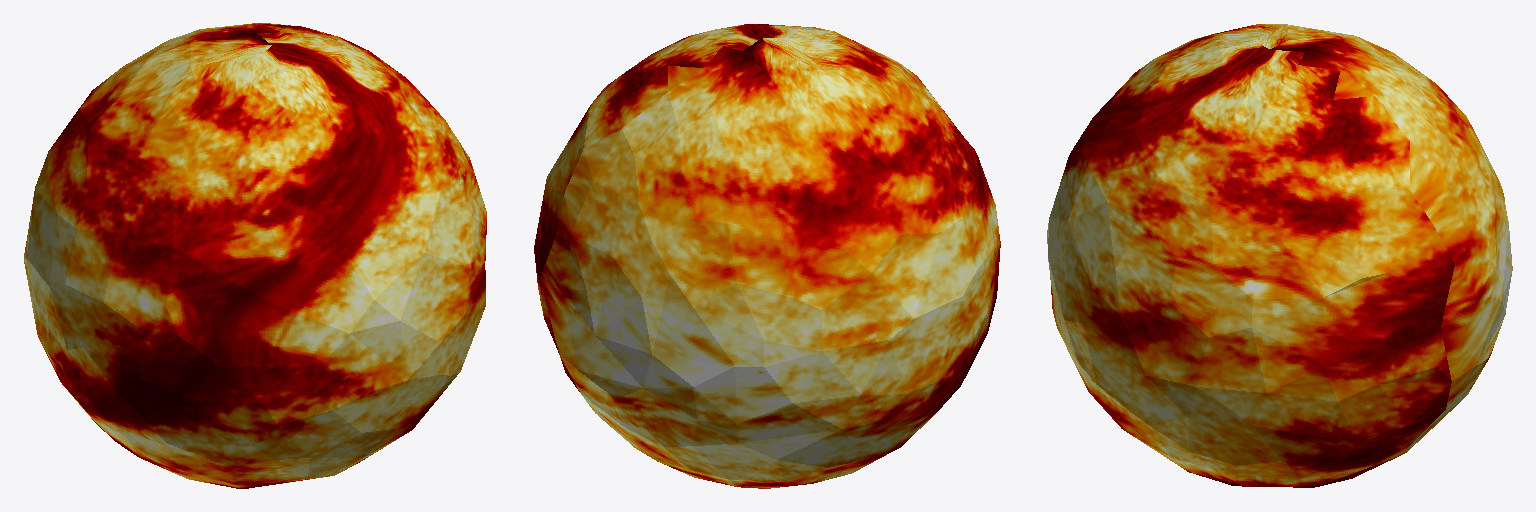
3 views of the same model, side by side, from view 1: azimuth 30°, elevation 25°; view 2: azimuth 150°, elevation 25°; view 3: azimuth 270°, elevation 25° (orthographic).
Visible parts, largest first — view 1: Atmosphere; view 2: Atmosphere; view 3: Atmosphere.
Part boxes in pixels (x1,y1,x2,y2): Atmosphere: (24, 23, 486, 488); Atmosphere: (534, 24, 1000, 488); Atmosphere: (1047, 24, 1512, 487).
Bounding box in the file's own units: 15.8 × 15.91 × 15.85.
Materials: 2 (2 with a texture image).